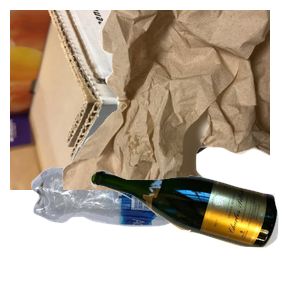cardboard: (10, 10, 250, 190)
glass: (88, 167, 300, 300)
plastic: (29, 165, 227, 300)
trash: (60, 10, 300, 190)
